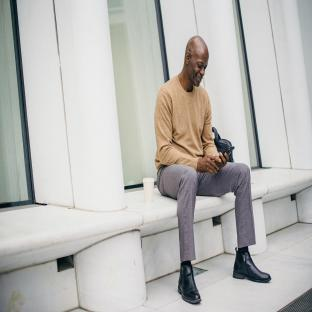Human: (154, 36, 271, 303)
